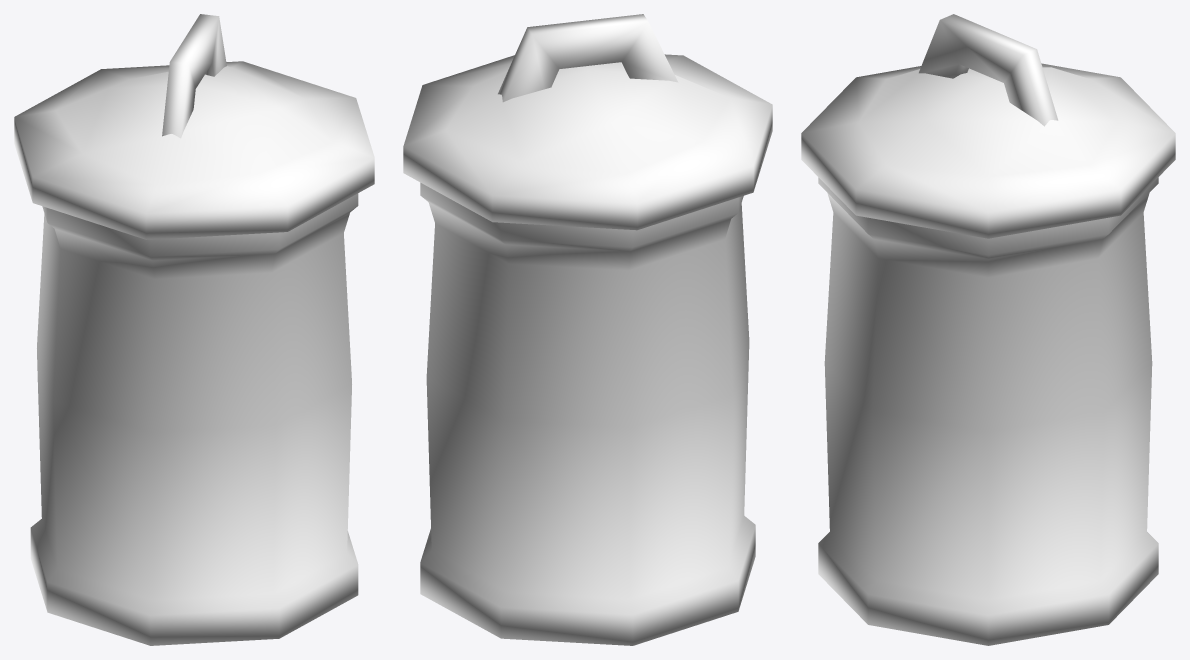
Rendered from metalicTrashcan.glb.
3 renders of one model, left to right at view 1: azimuth 30°, elevation 25°; view 2: azimuth 150°, elevation 25°; view 3: azimuth 270°, elevation 25°, orthographic. The views are drawn at different scales.
Visible parts, largest first — view 1: metalic_Trash_can; view 2: metalic_Trash_can; view 3: metalic_Trash_can.
Boxes of the visible parts, x1,y1,x2,y2 form: metalic_Trash_can: (14, 14, 374, 645); metalic_Trash_can: (403, 14, 772, 645); metalic_Trash_can: (801, 14, 1175, 645).
Size of the model in its own units: 0.7686 by 1.22 by 0.7686.
Materials: 1 (1 with a texture image).
